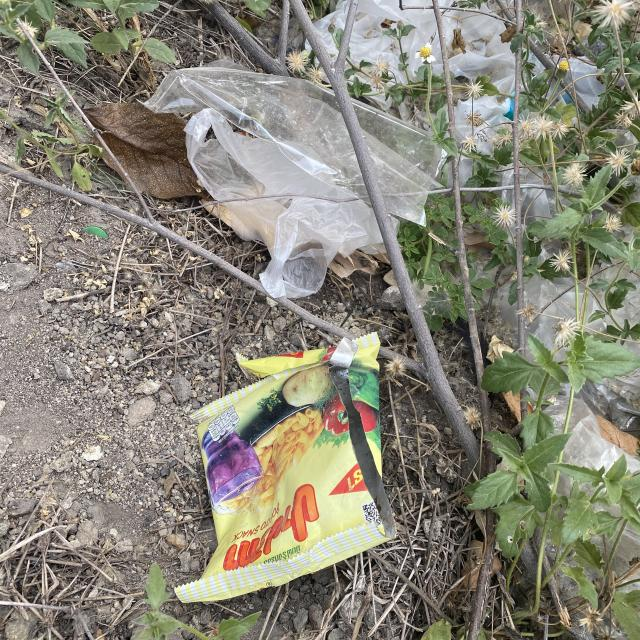Single-layer Plastic: (146, 68, 442, 298)
